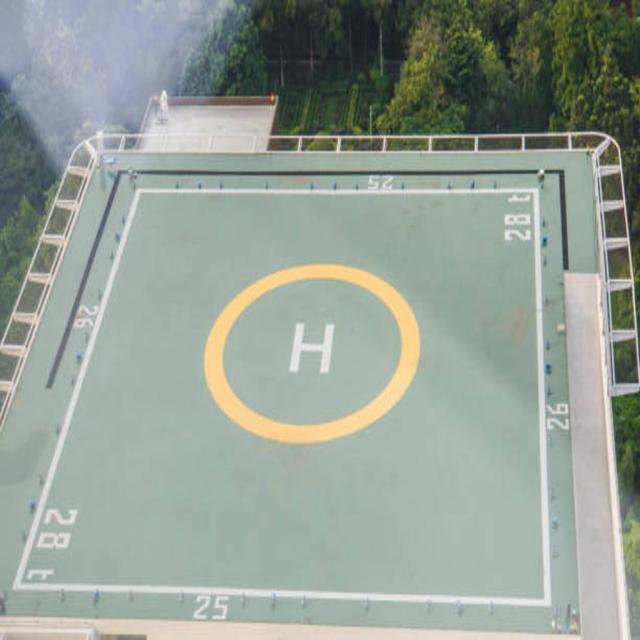helipad: (202, 261, 424, 444)
